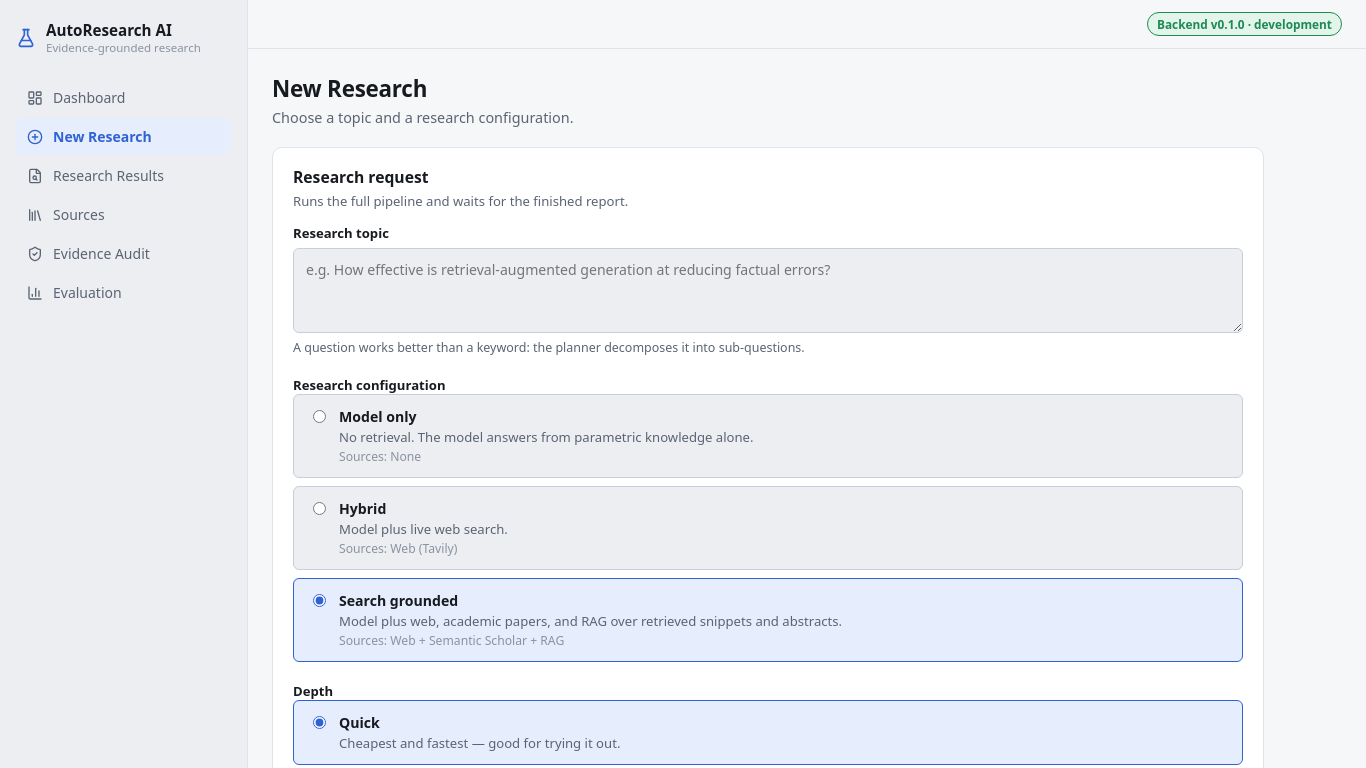
it: the form works › lets the configuration be changed
The width and height of the screenshot is (1366, 768).
What coordinates should you click on to do the following:
click the radio button labelled "Model only"
I would click on:
 (320, 417)
Its box is [313, 410, 326, 423].
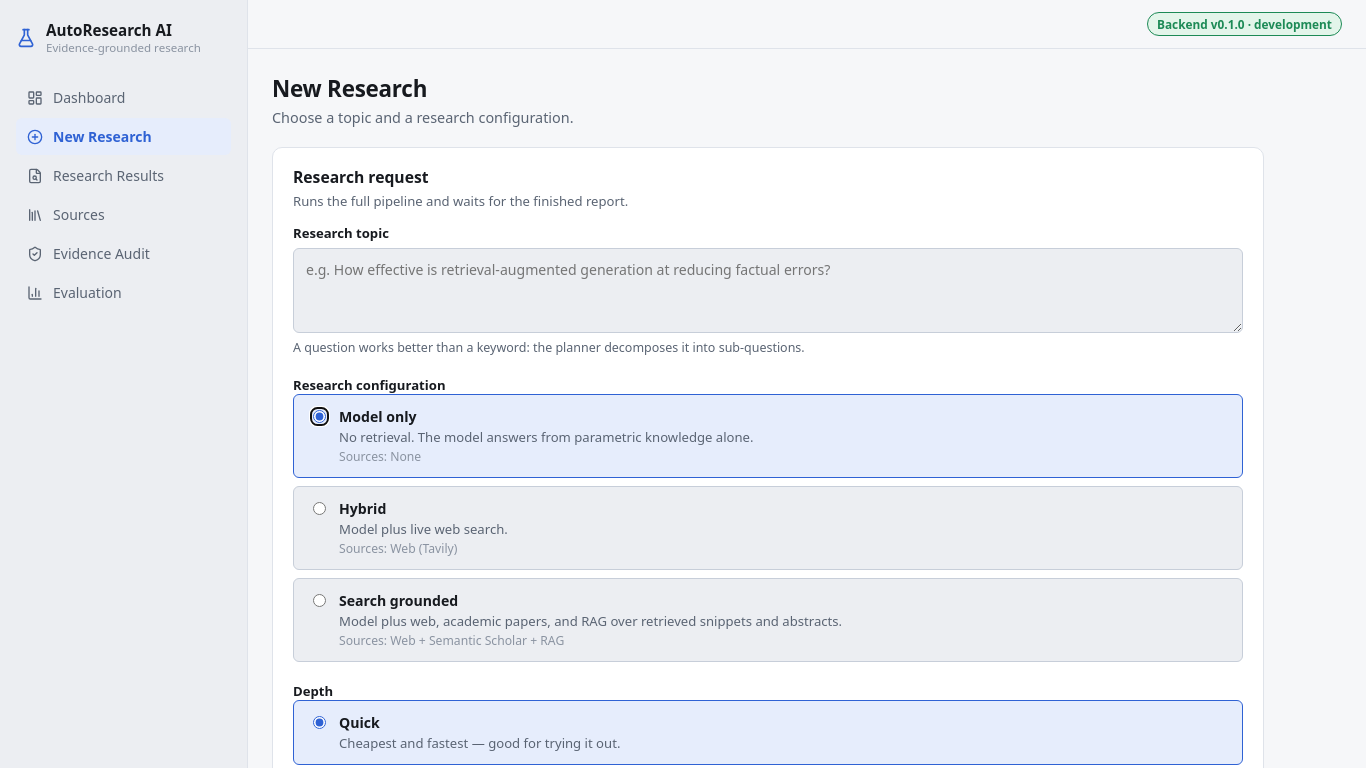
expect the radio button labelled "Model only" is checked: met, box [313, 410, 326, 423]
expect the radio button labelled "Search grounded" is not checked: met, box [313, 594, 326, 607]
